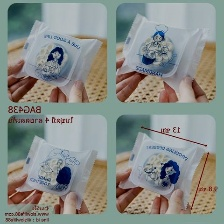snack: (116, 9, 212, 98), (8, 14, 106, 100), (116, 126, 210, 212), (12, 131, 103, 213)
